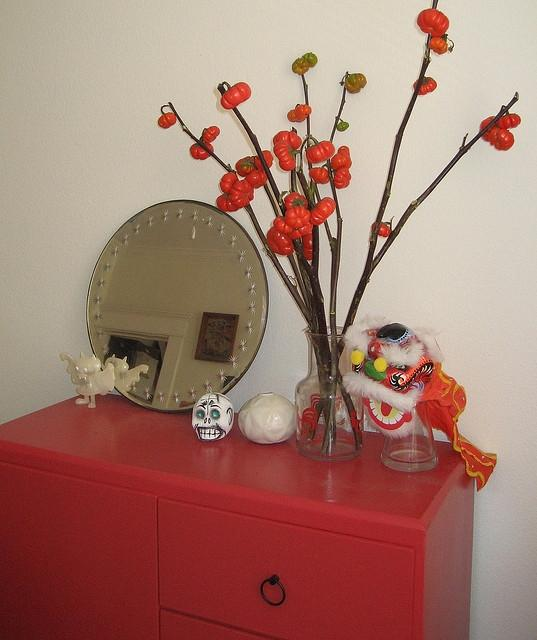pumpkin: (416, 8, 450, 37), (266, 225, 294, 256), (220, 82, 252, 109), (273, 141, 301, 171), (306, 136, 335, 164), (310, 197, 336, 225), (230, 180, 254, 208), (284, 206, 310, 229), (488, 128, 515, 150), (273, 130, 302, 150), (190, 136, 214, 160), (344, 73, 367, 94), (289, 221, 314, 240), (478, 116, 496, 142), (220, 172, 239, 195), (284, 192, 308, 210), (244, 170, 268, 188), (216, 194, 240, 212), (309, 164, 330, 184), (333, 166, 352, 188), (498, 110, 520, 129), (414, 76, 436, 95), (254, 150, 273, 171), (331, 153, 352, 170), (301, 231, 313, 260), (274, 216, 293, 234), (428, 37, 448, 54), (372, 221, 391, 237), (203, 126, 220, 143), (158, 112, 176, 128), (240, 156, 256, 174), (295, 104, 312, 120), (302, 52, 318, 68), (288, 110, 306, 122), (337, 118, 350, 132), (338, 146, 350, 157)
